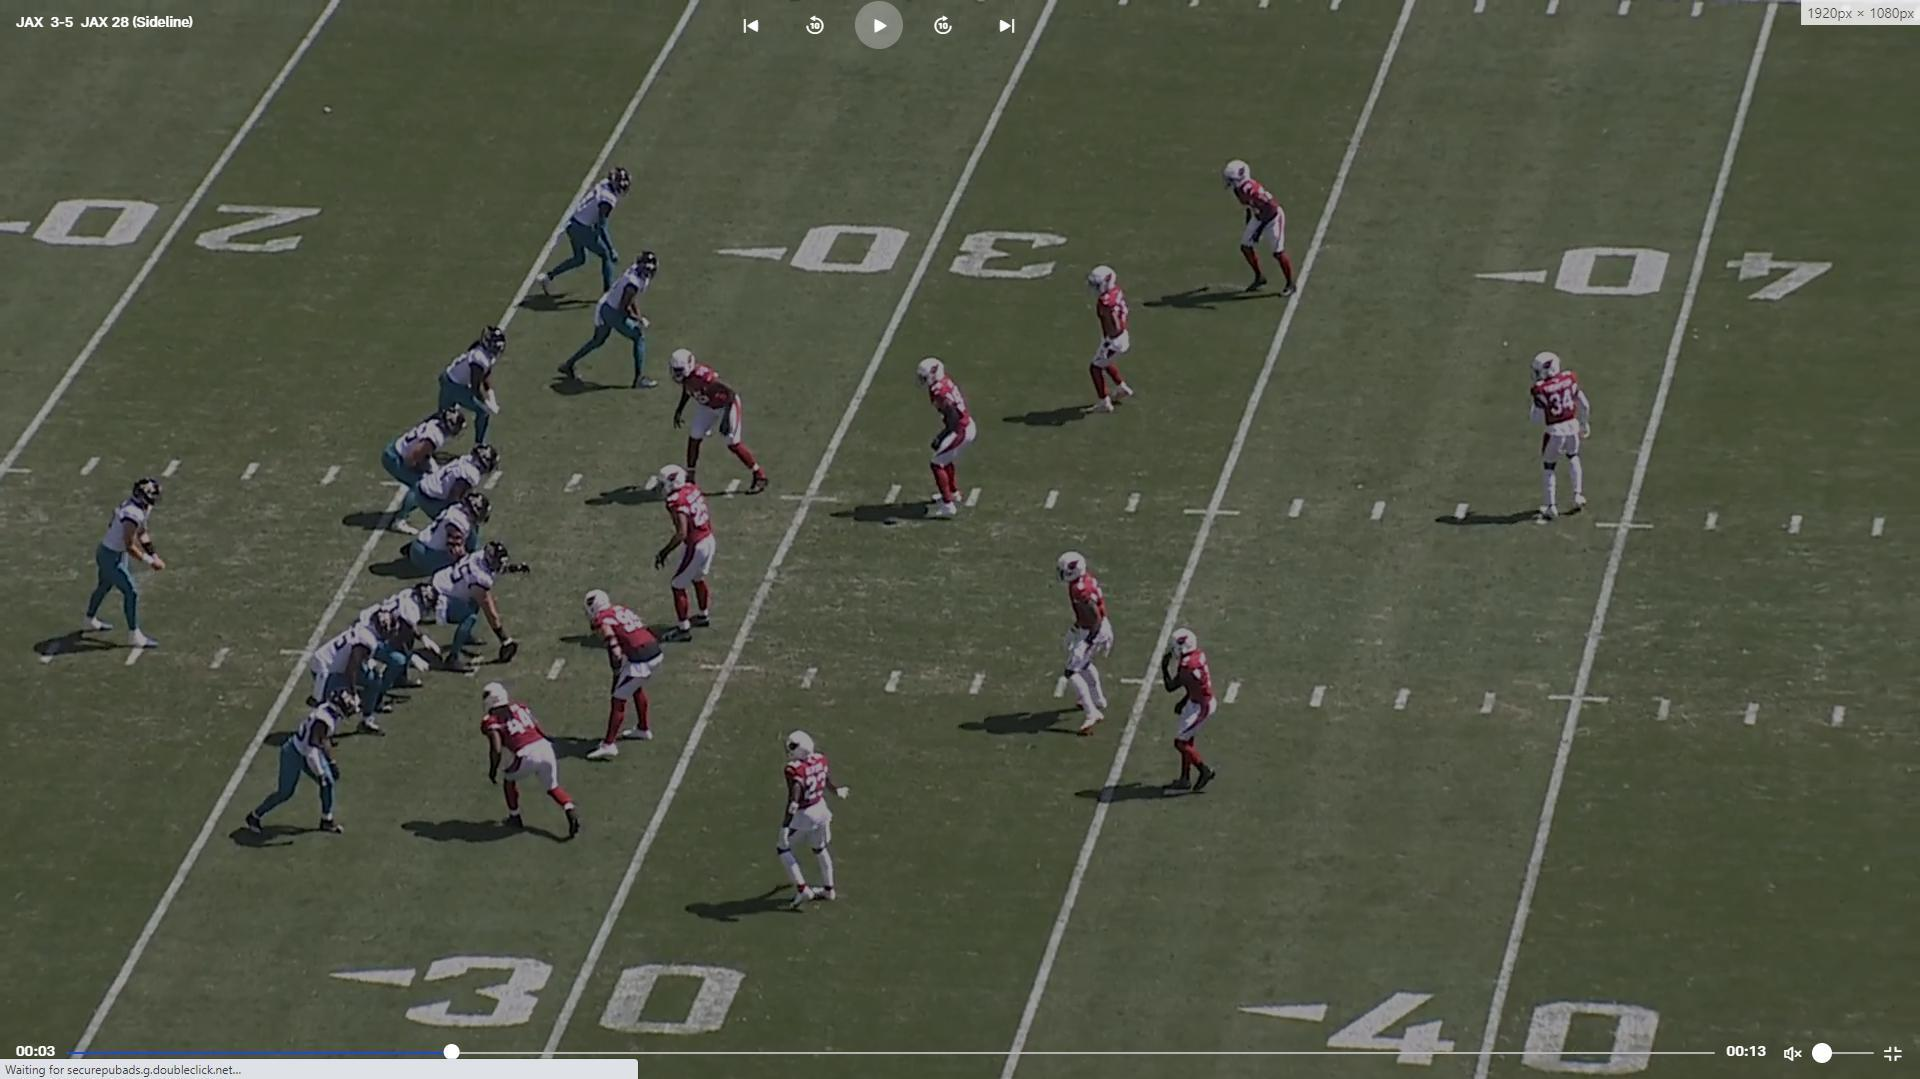defense: (492, 679, 595, 835), (663, 343, 769, 493), (584, 582, 663, 761), (644, 467, 719, 645), (1048, 547, 1120, 733), (781, 725, 852, 910), (1520, 350, 1592, 528), (1221, 158, 1304, 303), (1155, 623, 1217, 799), (909, 350, 973, 518), (1079, 264, 1135, 422)
oline: (431, 534, 531, 671), (297, 612, 393, 747), (360, 583, 442, 711), (405, 445, 500, 532), (407, 493, 492, 578)
qb: (75, 475, 161, 658)
skill: (553, 252, 666, 400), (239, 694, 351, 838), (526, 164, 633, 301), (382, 408, 463, 542), (429, 322, 508, 455)
